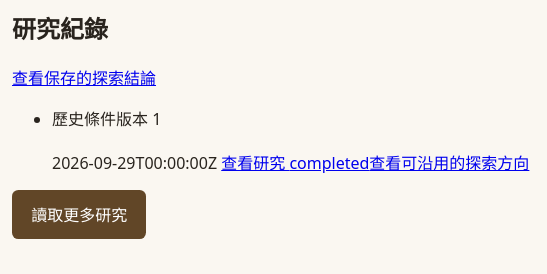
Test: history keeps old revision and creation date visible; failed pagination preserves previous results
Expected: the text "歷史條件版本 1" is shown, [52,108,161,130]
Click the button "讀取更多研究" at (79, 214), box [12,190,146,239]
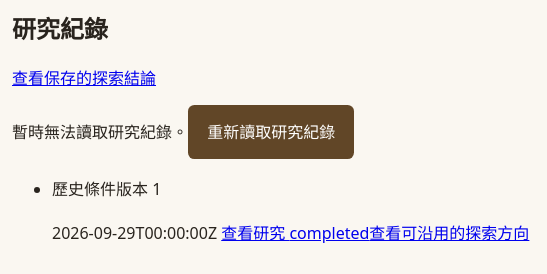
Expected: the text "歷史條件版本 1" is shown, [52,178,161,200]
Result: the message shows "暫時無法讀取研究紀錄" at [12,121,188,143]
Click the button "重新讀取研究紀錄" at (271, 132), box [188,105,354,159]
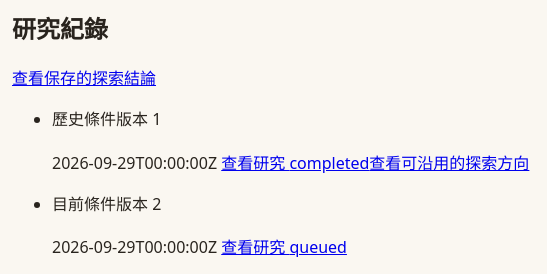
Result: the text "目前條件版本 2" is shown at [52,193,161,215]
